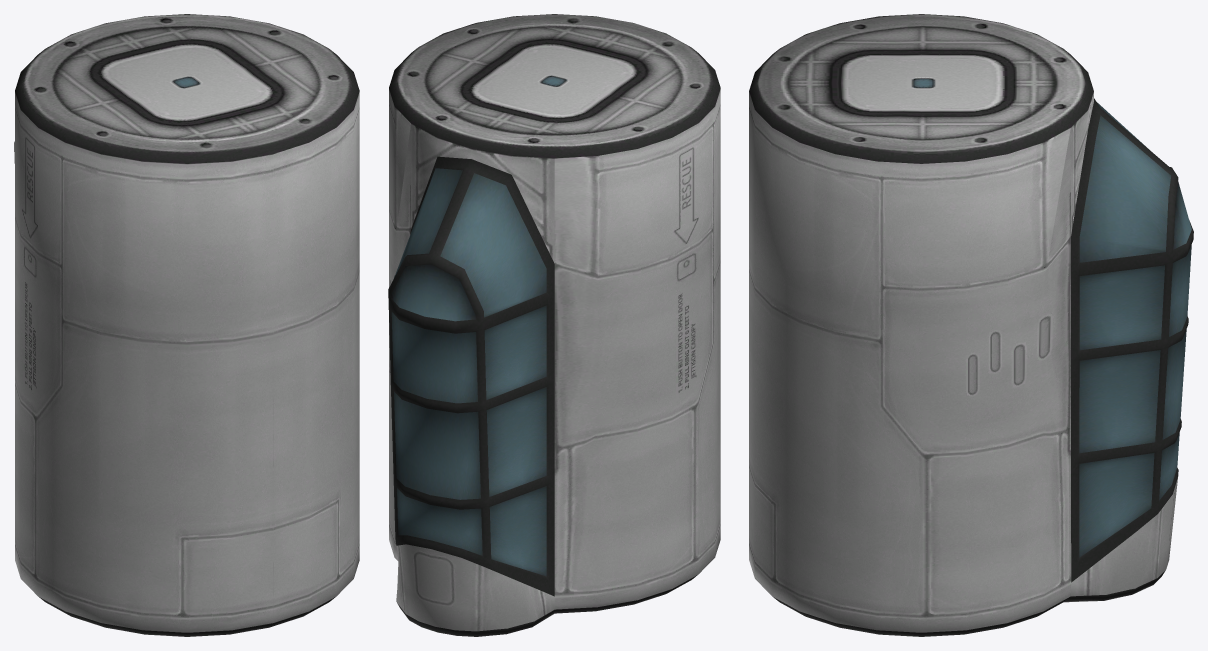
Rendered from MoS_IRT40_Cockpit_RAW.fbx.
The picture shows the model from 3 angles, left to right: view 1: azimuth 30°, elevation 25°; view 2: azimuth 150°, elevation 25°; view 3: azimuth 270°, elevation 25°; orthographic projection. The views are drawn at different scales.
Visible parts, largest first — view 1: Cockpit; view 2: Cockpit; view 3: Cockpit.
Boxes of the visible parts, x1,y1,x2,y2 form: Cockpit: [14, 14, 359, 636]; Cockpit: [388, 14, 720, 636]; Cockpit: [749, 14, 1193, 636].
Size of what is drawn, in the model's own units: 125 by 194 by 161.
1 material, 1 textured.
